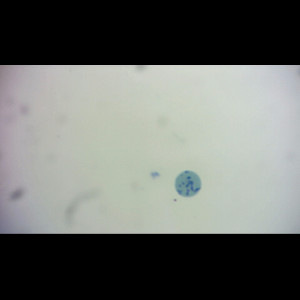aggregate reticulocyte: (174, 169, 203, 198)
